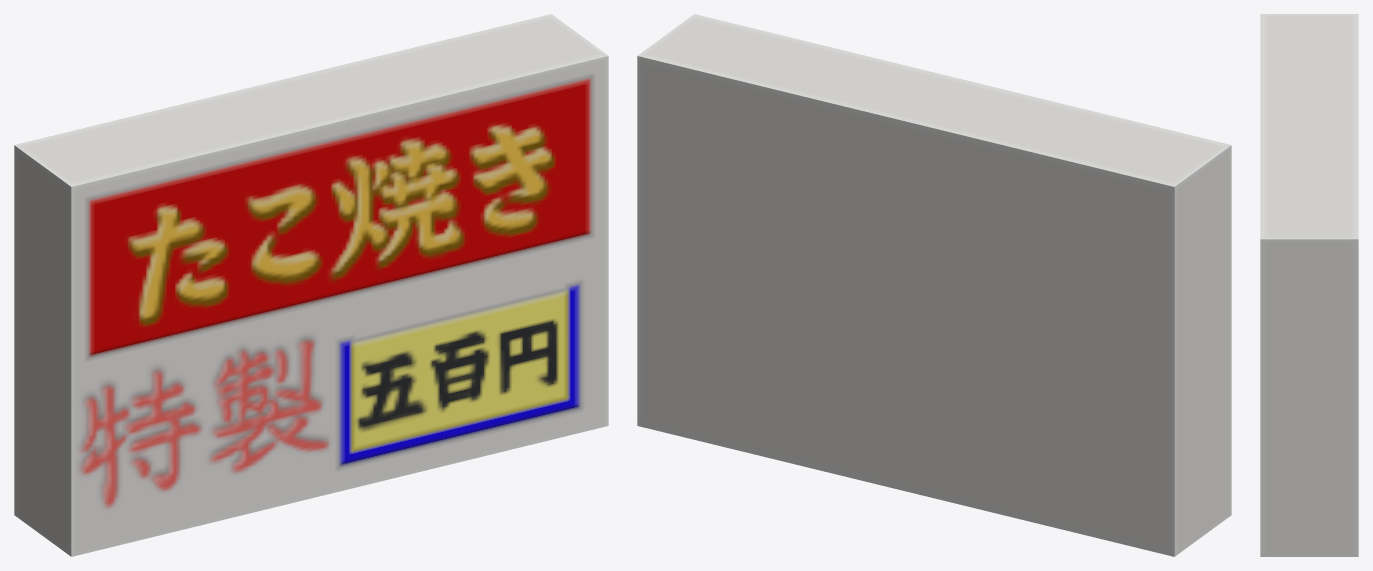
The model's file is jsf_Light_Takoyaki.fbx.
3 views of the same model, side by side, from view 1: azimuth 30°, elevation 25°; view 2: azimuth 150°, elevation 25°; view 3: azimuth 270°, elevation 25° (orthographic). The views are drawn at different scales.
Parts seen in each view (by area): view 1: jsf_Light_Takoyaki; view 2: jsf_Light_Takoyaki; view 3: jsf_Light_Takoyaki.
Boxes of the visible parts, x1,y1,x2,y2 form: jsf_Light_Takoyaki: [14, 14, 608, 556]; jsf_Light_Takoyaki: [637, 14, 1231, 556]; jsf_Light_Takoyaki: [1260, 14, 1358, 556].
Size of the model in its own units: 38 by 25 by 7.02.
